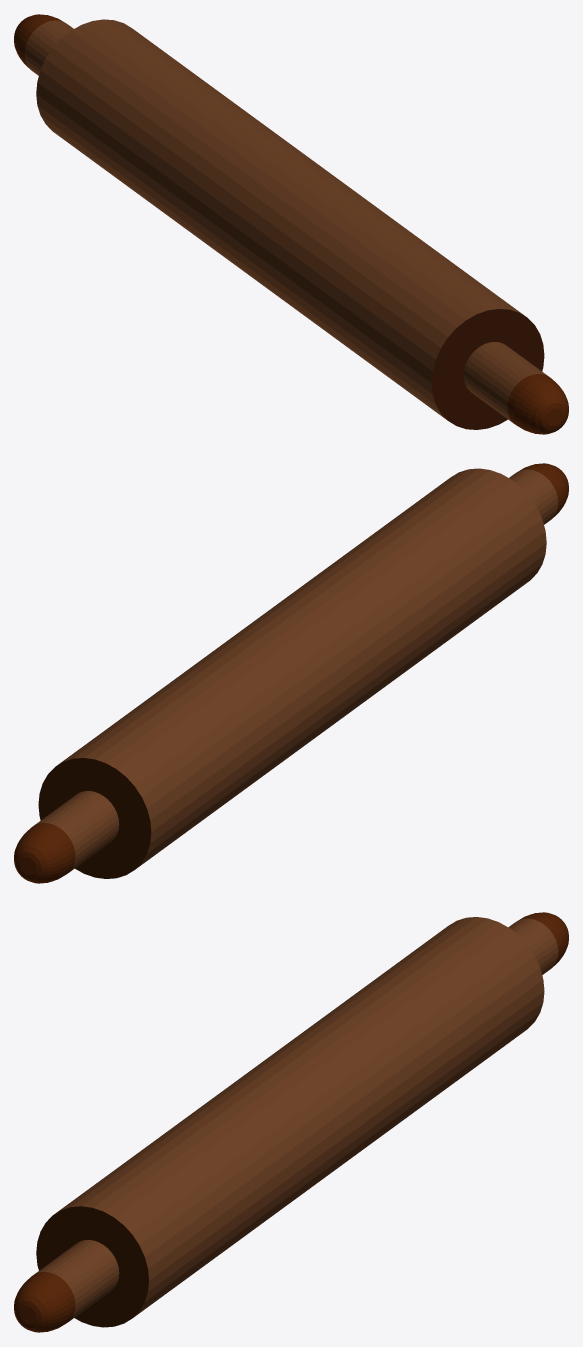
The model's file is Res01-RollingPin.fbx.
The picture shows the model from 3 angles, top to bottom: view 1: azimuth 30°, elevation 25°; view 2: azimuth 150°, elevation 25°; view 3: azimuth 330°, elevation 25°; orthographic projection.
Parts seen in each view (by area): view 1: Res01-RollingPin; view 2: Res01-RollingPin; view 3: Res01-RollingPin.
Part boxes in pixels (x1=…): Res01-RollingPin: x1=14, y1=14, x2=568, y2=434; Res01-RollingPin: x1=14, y1=463, x2=568, y2=883; Res01-RollingPin: x1=14, y1=912, x2=568, y2=1332.
Size of the model in its own units: 9.7 by 9.7 by 78.43.
